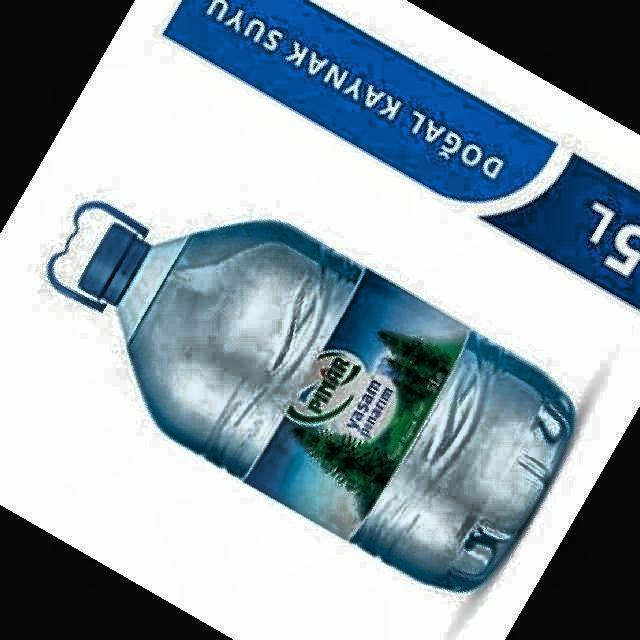plastic: (49, 202, 580, 591)
